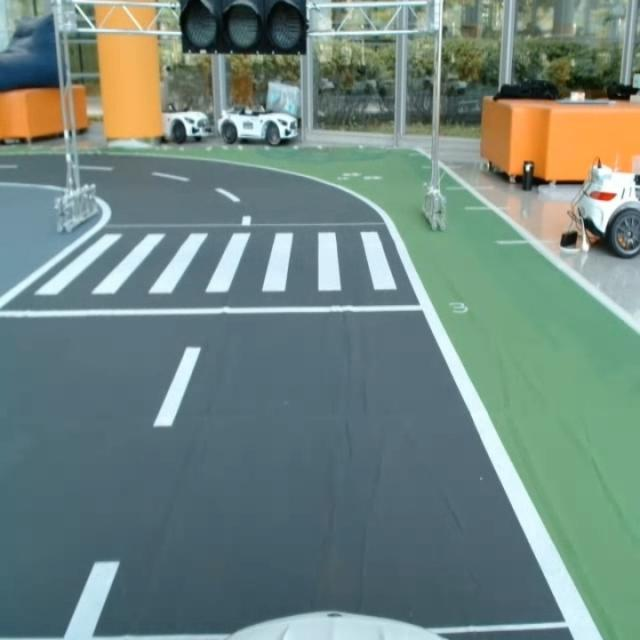traffic-light: (175, 0, 312, 57)
